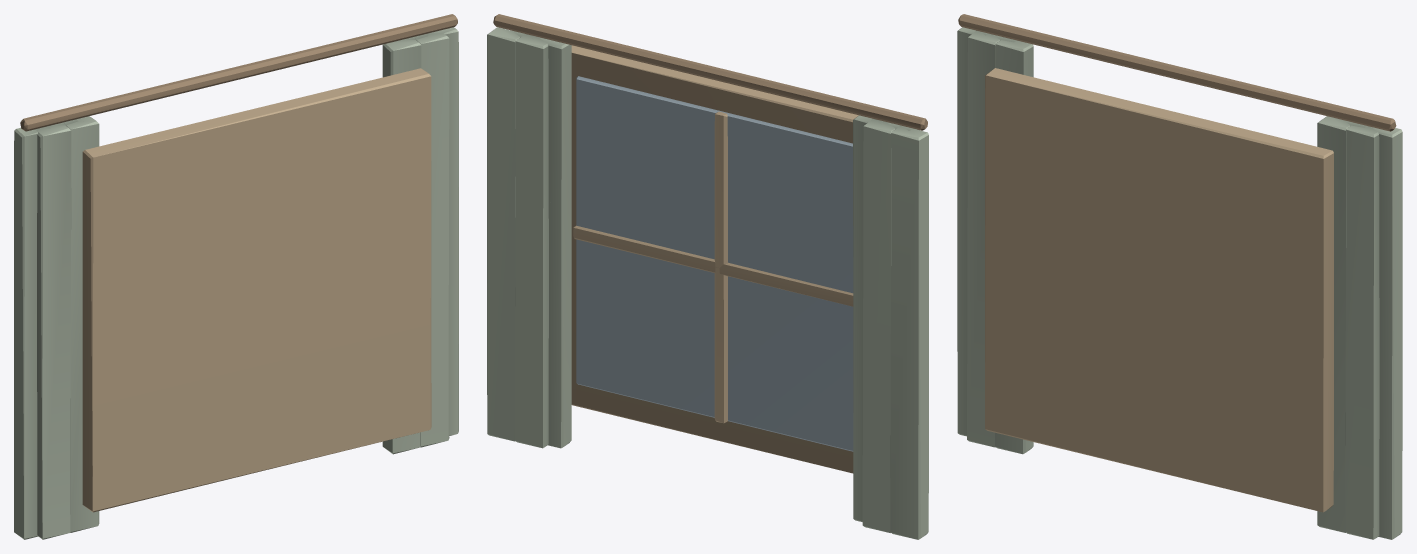
File: furn_curtain_window__sage_low.glb
3 renders of one model, left to right at view 1: azimuth 30°, elevation 25°; view 2: azimuth 150°, elevation 25°; view 3: azimuth 330°, elevation 25°, orthographic.
Bounding box in the file's own units: 1.41 × 1.29 × 0.1709.
